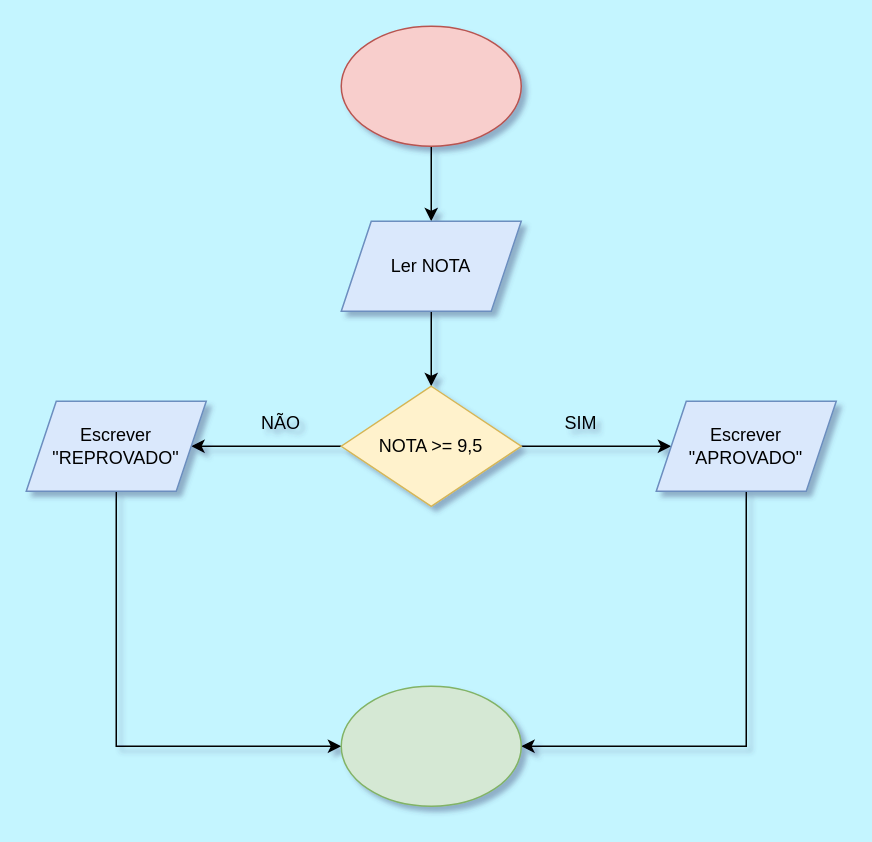
Image size: 872x842. Some labels were removed from this diagram. Here are the shapes that lost their labels. From the top down, the box of each, then its label:
(340, 25, 521, 146): Início
(340, 685, 521, 806): Fim
